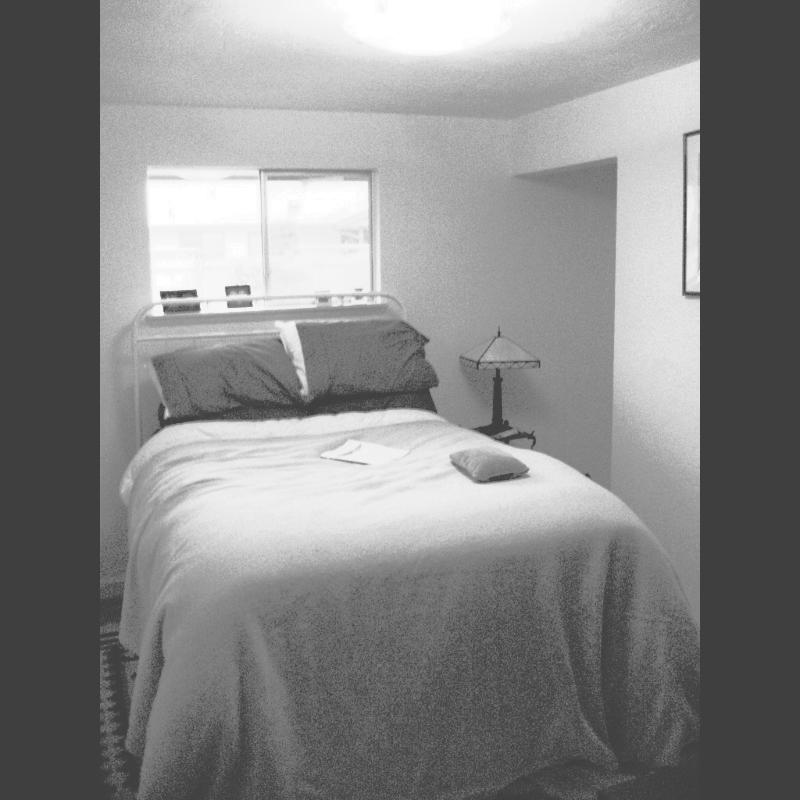pillow: (271, 314, 435, 396), (150, 335, 304, 416)
